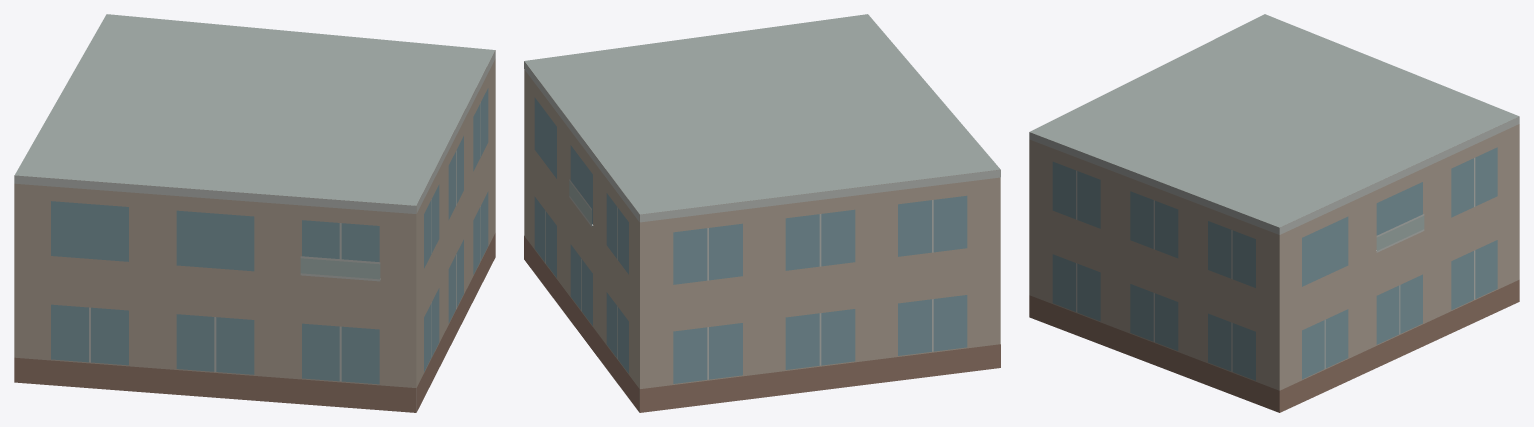
Rendered from survey-upis-32795275.glb.
3 views of the same model, side by side, from view 1: azimuth 30°, elevation 25°; view 2: azimuth 150°, elevation 25°; view 3: azimuth 270°, elevation 25° (orthographic). The views are drawn at different scales.
Visible parts, largest first — view 1: survey-upis-32795275.tmp; view 2: survey-upis-32795275.tmp; view 3: survey-upis-32795275.tmp.
Boxes of the visible parts, x1,y1,x2,y2 form: survey-upis-32795275.tmp: (14, 14, 495, 412); survey-upis-32795275.tmp: (524, 14, 1000, 412); survey-upis-32795275.tmp: (1029, 14, 1519, 412).
Size of the model in its own units: 15.1 by 6.1 by 14.64.
